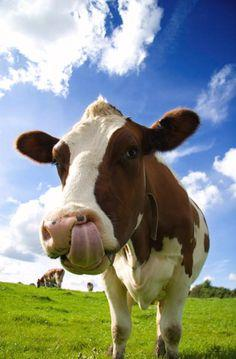cow: (0, 94, 226, 348)
